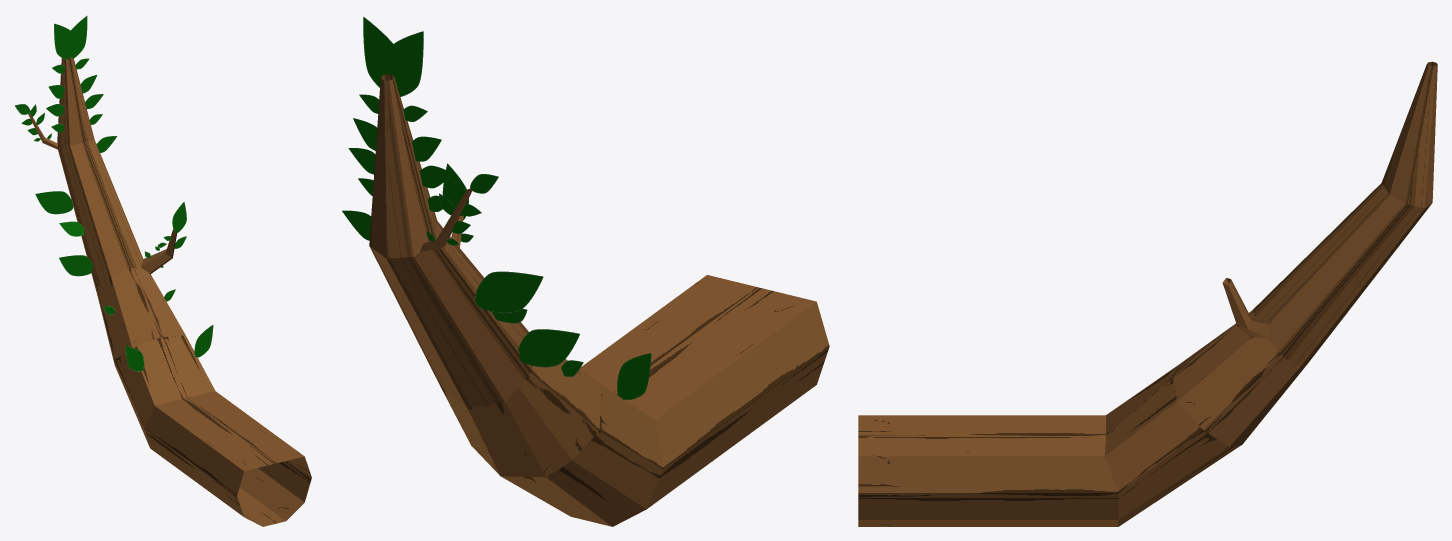
The model's file is Branche2.fbx.
3 views of the same model, side by side, from view 1: azimuth 30°, elevation 25°; view 2: azimuth 150°, elevation 25°; view 3: azimuth 270°, elevation 25° (orthographic). The views are drawn at different scales.
Parts seen in each view (by area): view 1: Branche, Plane; view 2: Branche, Plane; view 3: Branche.
Part boxes in pixels (box(x1,y1,x2,y2)): Branche: box(28, 56, 311, 526); Plane: box(15, 16, 213, 371); Branche: box(369, 74, 829, 526); Plane: box(342, 17, 651, 400); Branche: box(858, 61, 1437, 526).
Size of the model in its own units: 304 by 910 by 969.
